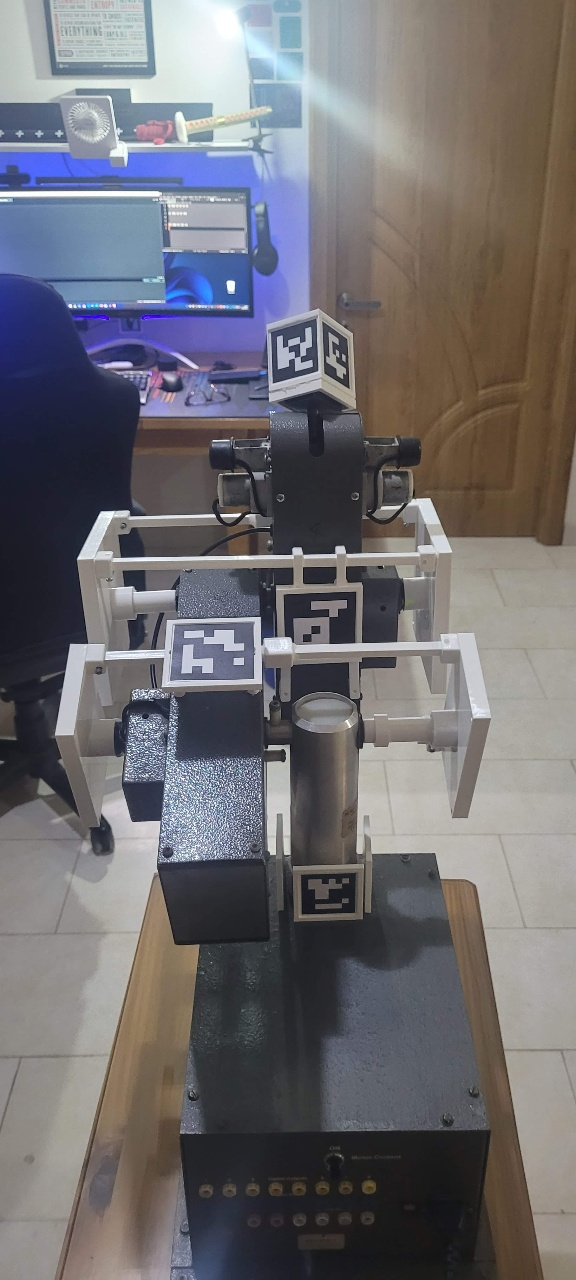Robot: (53, 307, 494, 946)
